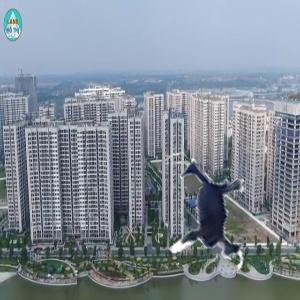drone: (130, 140, 282, 292)
